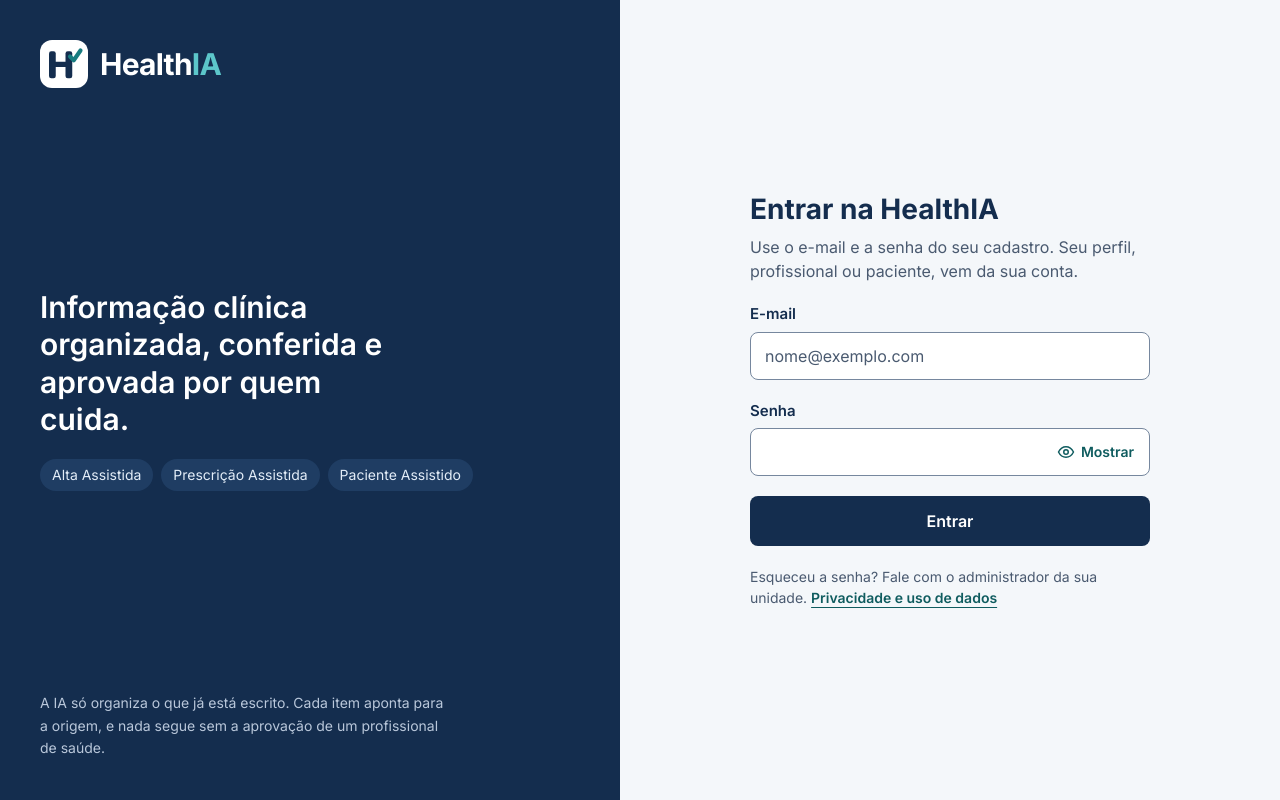
Test: Tela de login › o botão Mostrar exibe a senha digitada
Type "senha-certa" into the password field labelled "Senha" at (950, 452), box [750, 428, 1150, 476]
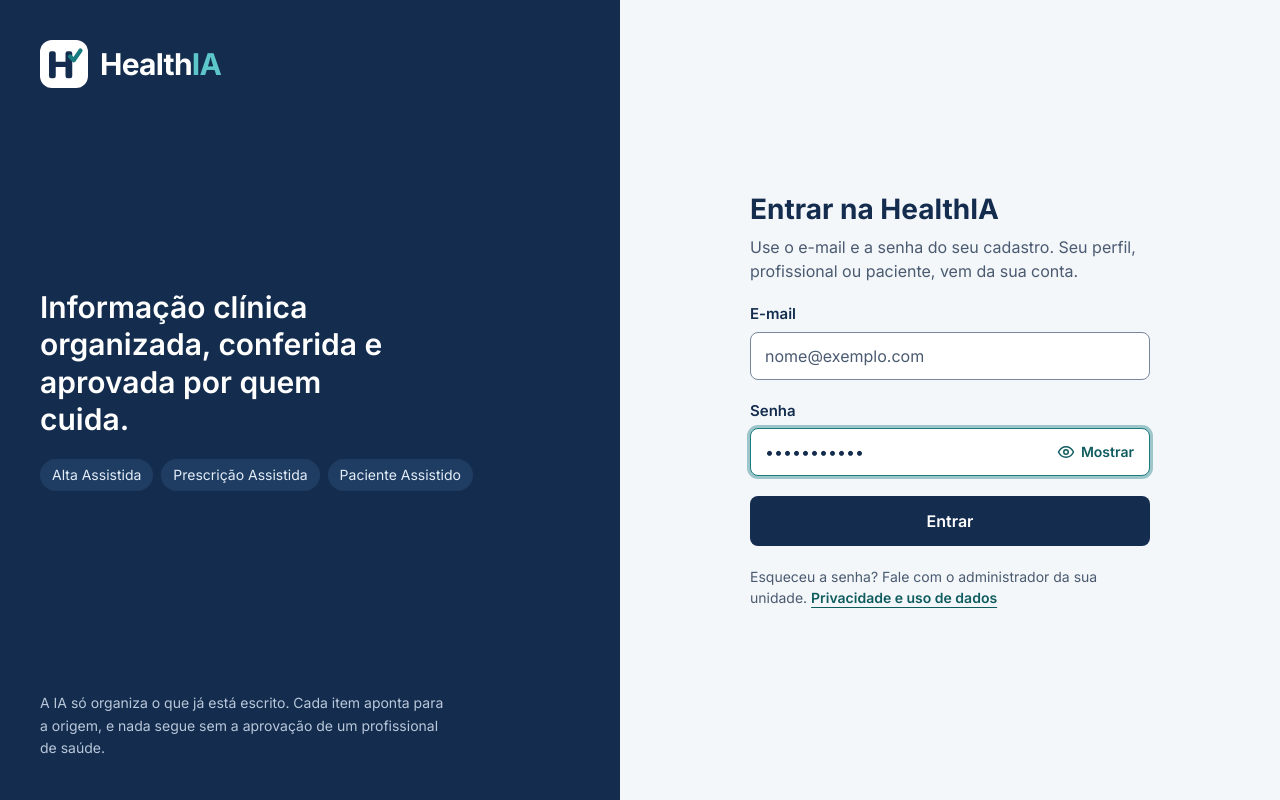
Click the button with aria-label "Mostrar senha" at (1095, 452), box [1045, 432, 1146, 472]
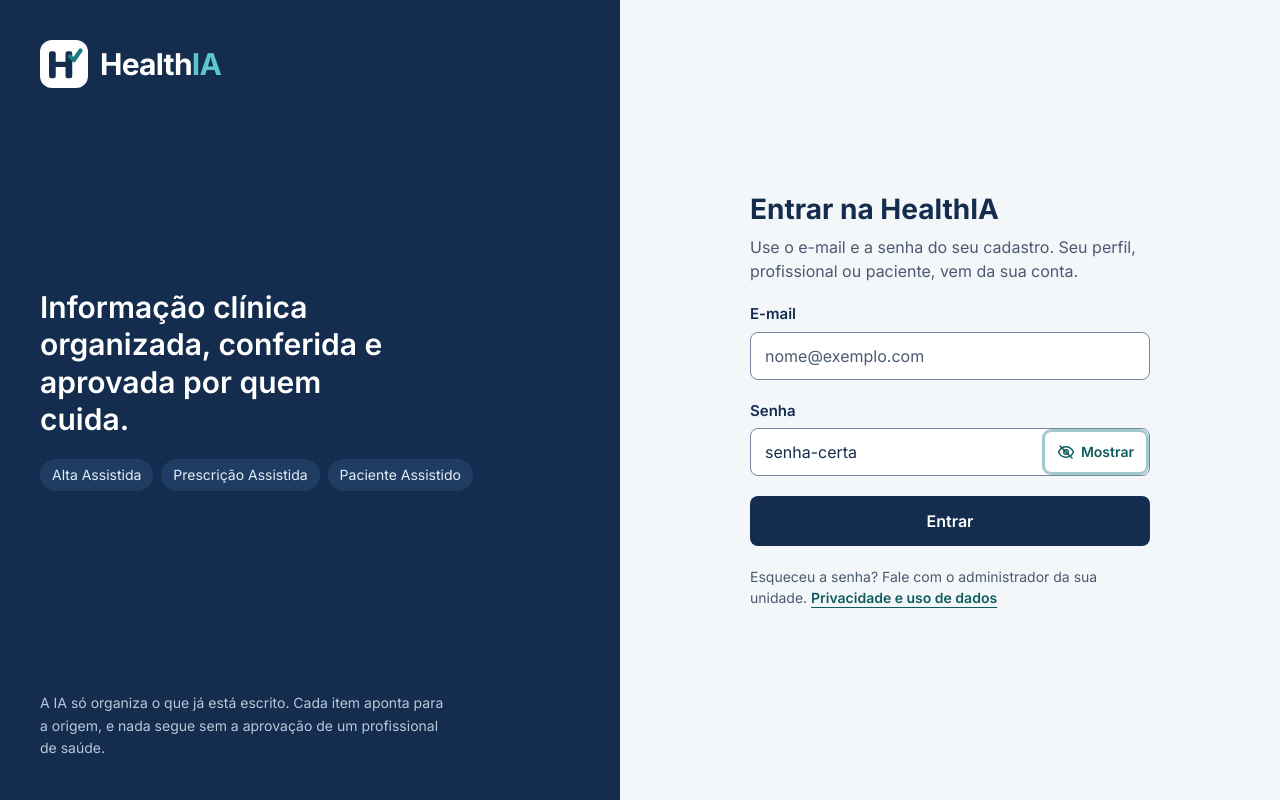
Now the field labelled "Senha" shows its text, box [750, 428, 1150, 476]
